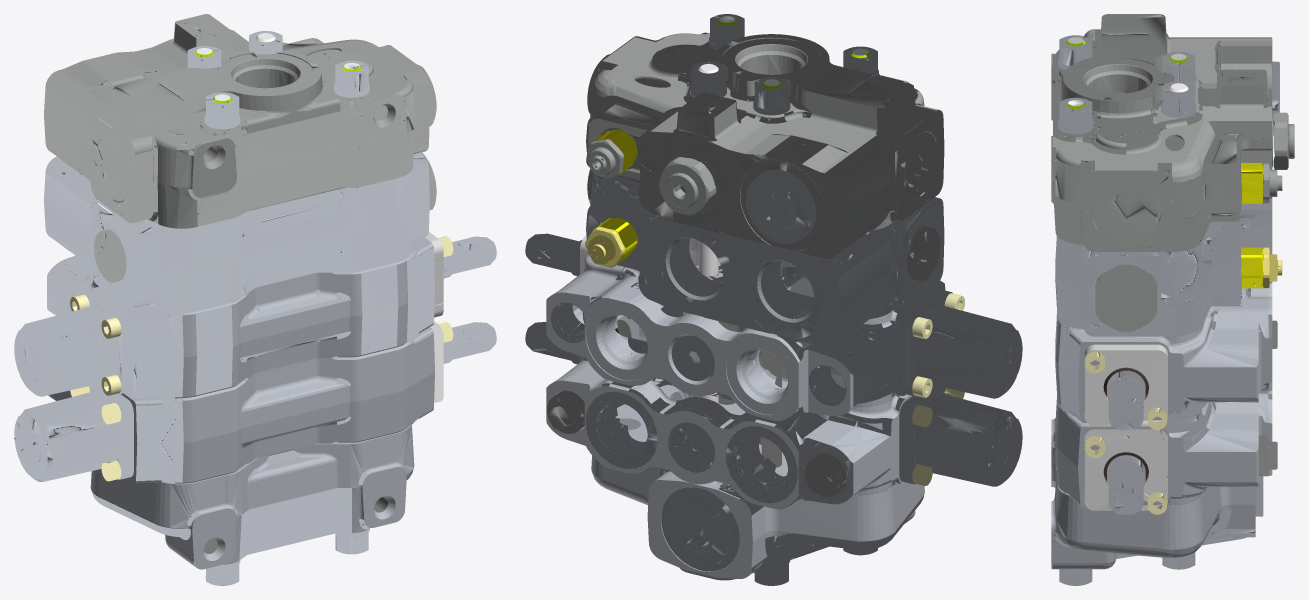
The model's file is Shinrai_Agg2PackDraco.glb.
3 renders of one model, left to right at view 1: azimuth 30°, elevation 25°; view 2: azimuth 150°, elevation 25°; view 3: azimuth 270°, elevation 25°, orthographic. The views are drawn at different scales.
Size of the model in its own units: 0.273 by 0.271 by 0.125.
